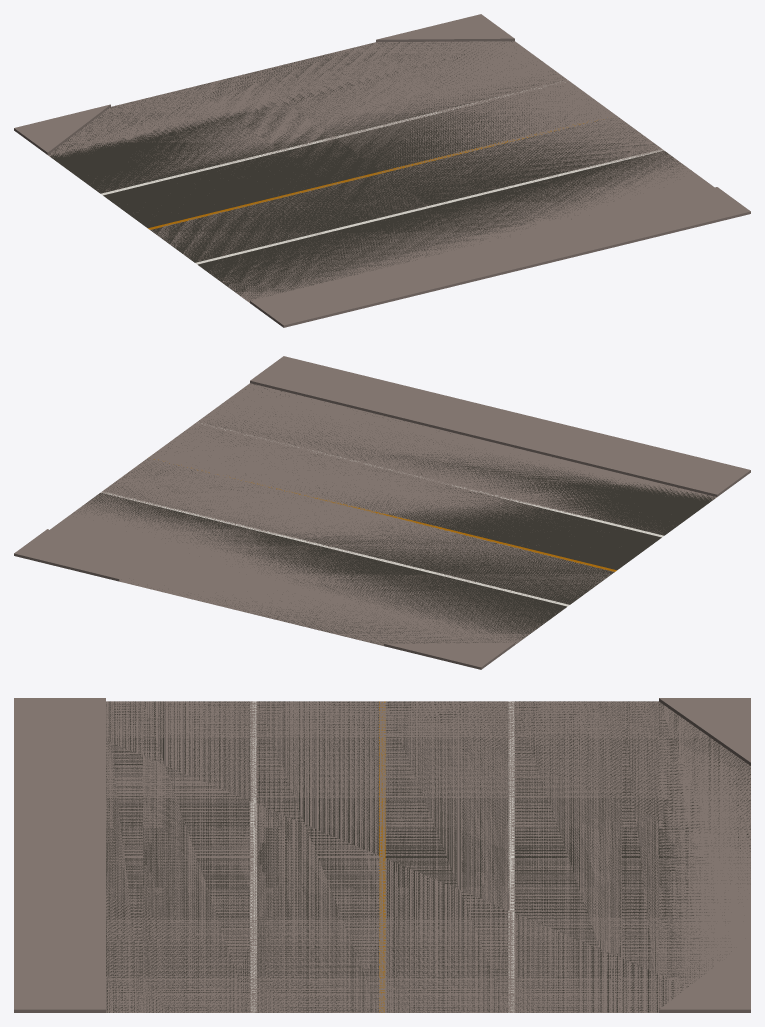
File: Env_2lane_Stop.fbx
3 renders of one model, top to bottom at view 1: azimuth 30°, elevation 25°; view 2: azimuth 150°, elevation 25°; view 3: azimuth 270°, elevation 25°, orthographic. The views are drawn at different scales.
Visible parts, largest first — view 1: Env_2lane_Stop; view 2: Env_2lane_Stop; view 3: Env_2lane_Stop.
Boxes of the visible parts, bbox=[...] form: Env_2lane_Stop: bbox=[14, 14, 750, 327]; Env_2lane_Stop: bbox=[14, 356, 750, 669]; Env_2lane_Stop: bbox=[14, 698, 750, 1012].
Bounding box in the file's own units: 2000 × 10 × 2000.
